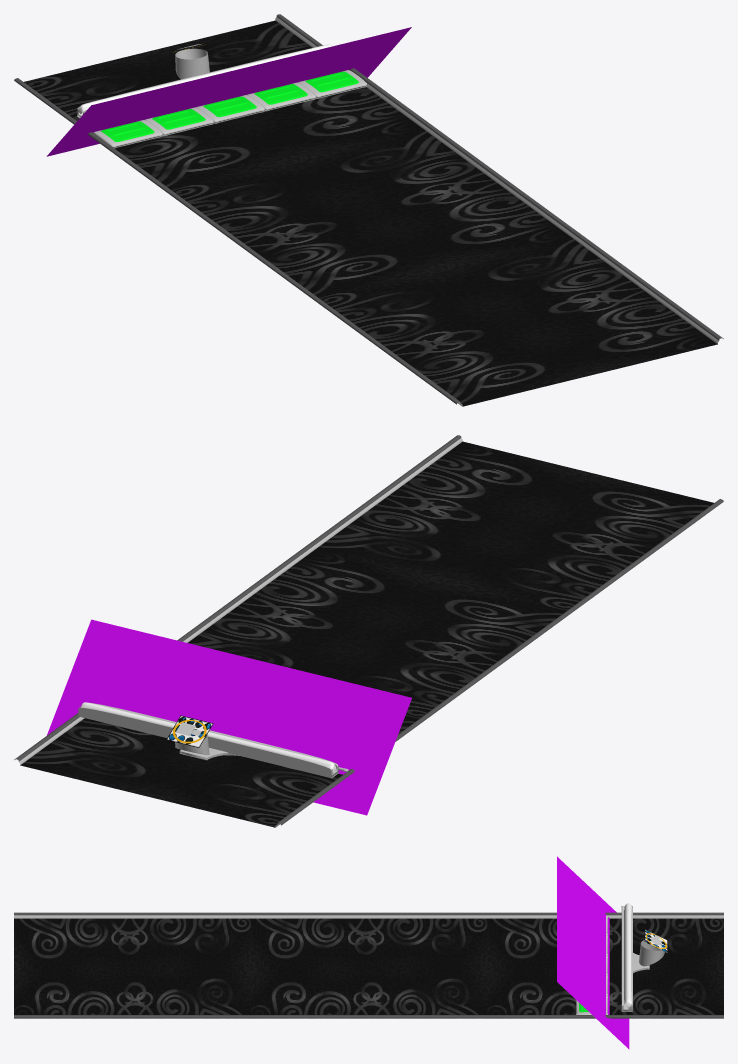
File: FiveFretTrack.fbx
3 renders of one model, top to bottom at view 1: azimuth 30°, elevation 25°; view 2: azimuth 150°, elevation 25°; view 3: azimuth 270°, elevation 25°, orthographic. The views are drawn at different scales.
Visible parts, largest first — view 1: TrackModel, KickFlash, TrimLeft, TrimRight, Fret_4, Fret_3, Fret_1, Fret_2, Fret, StarpowerBarTop, Track_Combo_Meter_Base; view 2: TrackModel, KickFlash, TrimLeft, Overdrive, TrimRight, StarpowerBarTop, Combo_Meter; view 3: TrackModel, KickFlash, TrimRight, TrimLeft, StarpowerBarTop, Overdrive, Track_Combo_Meter_Base.
Boxes of the visible parts, x1=… form: TrackModel: x1=24, y1=20, x2=717, y2=406; KickFlash: x1=46, y1=27, x2=411, y2=156; TrimLeft: x1=275, y1=14, x2=723, y2=344; TrimRight: x1=14, y1=78, x2=462, y2=406; Fret_4: x1=93, y1=120, x2=162, y2=148; Fret_3: x1=145, y1=107, x2=213, y2=136; Fret_1: x1=247, y1=82, x2=315, y2=111; Fret_2: x1=196, y1=95, x2=264, y2=123; Fret: x1=298, y1=70, x2=366, y2=98; StarpowerBarTop: x1=78, y1=44, x2=332, y2=113; Track_Combo_Meter_Base: x1=175, y1=48, x2=209, y2=79; TrackModel: x1=20, y1=441, x2=713, y2=827; KickFlash: x1=47, y1=619, x2=411, y2=815; TrimLeft: x1=14, y1=435, x2=462, y2=765; Overdrive: x1=78, y1=703, x2=338, y2=778; TrimRight: x1=275, y1=499, x2=723, y2=827; StarpowerBarTop: x1=81, y1=702, x2=335, y2=771; Combo_Meter: x1=166, y1=715, x2=213, y2=747; TrackModel: x1=14, y1=918, x2=723, y2=1018; KickFlash: x1=557, y1=856, x2=629, y2=1049; TrimRight: x1=14, y1=912, x2=723, y2=918; TrimLeft: x1=14, y1=1015, x2=723, y2=1018; StarpowerBarTop: x1=624, y1=903, x2=631, y2=1007; Overdrive: x1=621, y1=906, x2=632, y2=1011; Track_Combo_Meter_Base: x1=639, y1=940, x2=664, y2=966.
Bounding box in the file's own units: 251 × 63.32 × 600.
